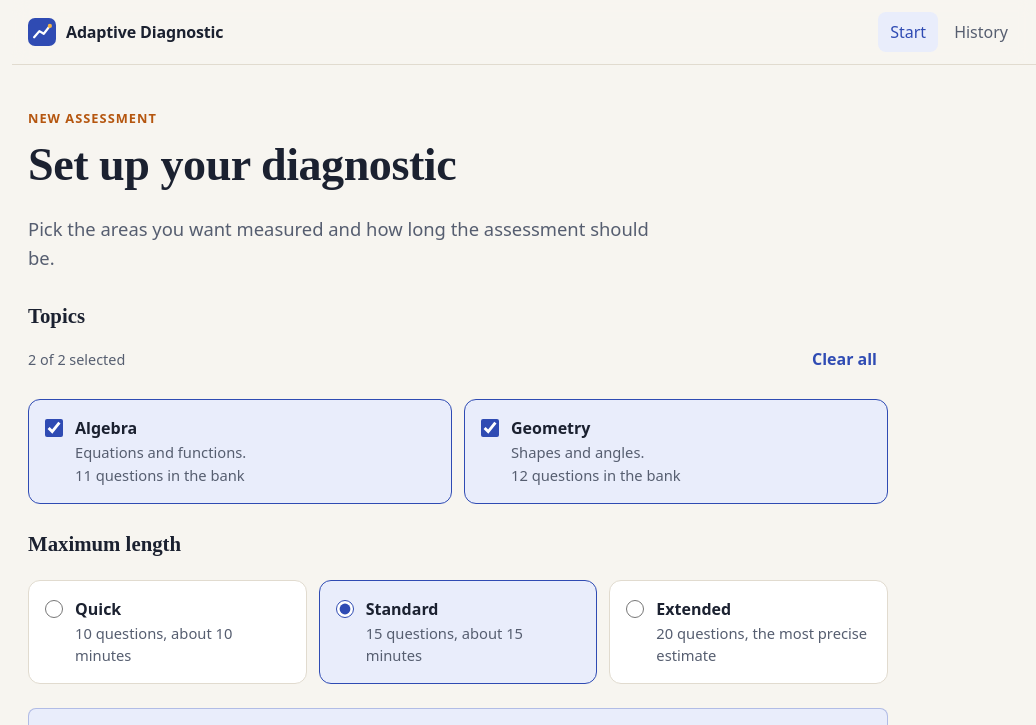
Test case: setup page › validates that at least one topic is selected
What coordinates should you click on to do the following:
click the button "Clear all"
I would click on:
 (844, 360)
Its box is left=801, top=336, right=888, bottom=383.
(page scrolled)
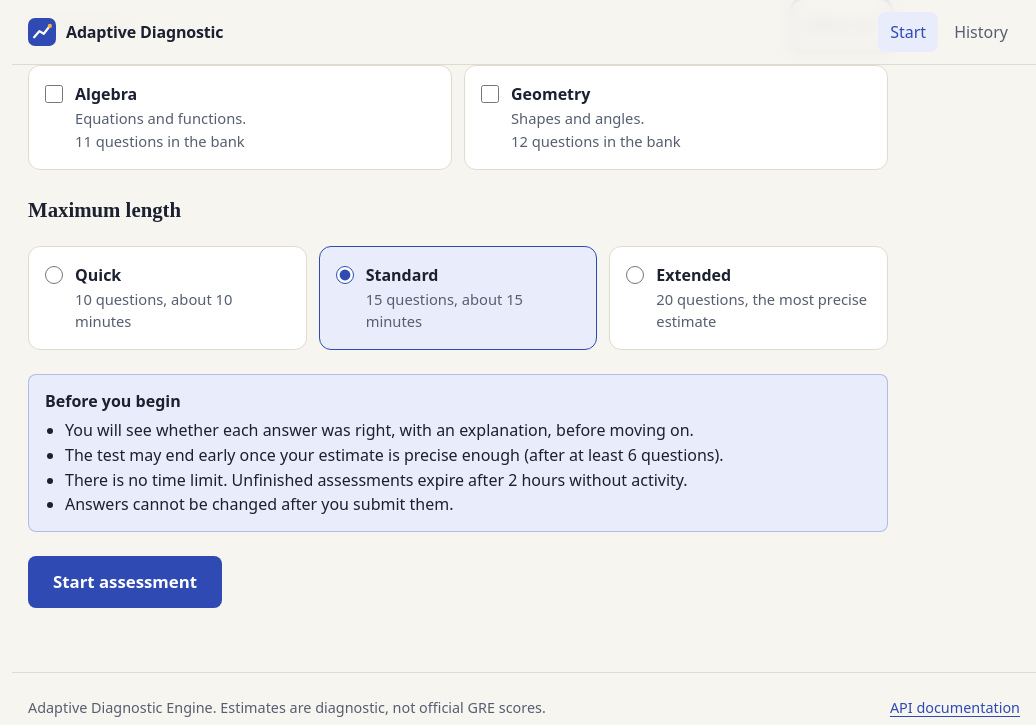
What coordinates should you click on to do the following:
click the button "Start assessment"
I would click on:
 (125, 582)
Its box is left=28, top=556, right=222, bottom=608.
(page scrolled)
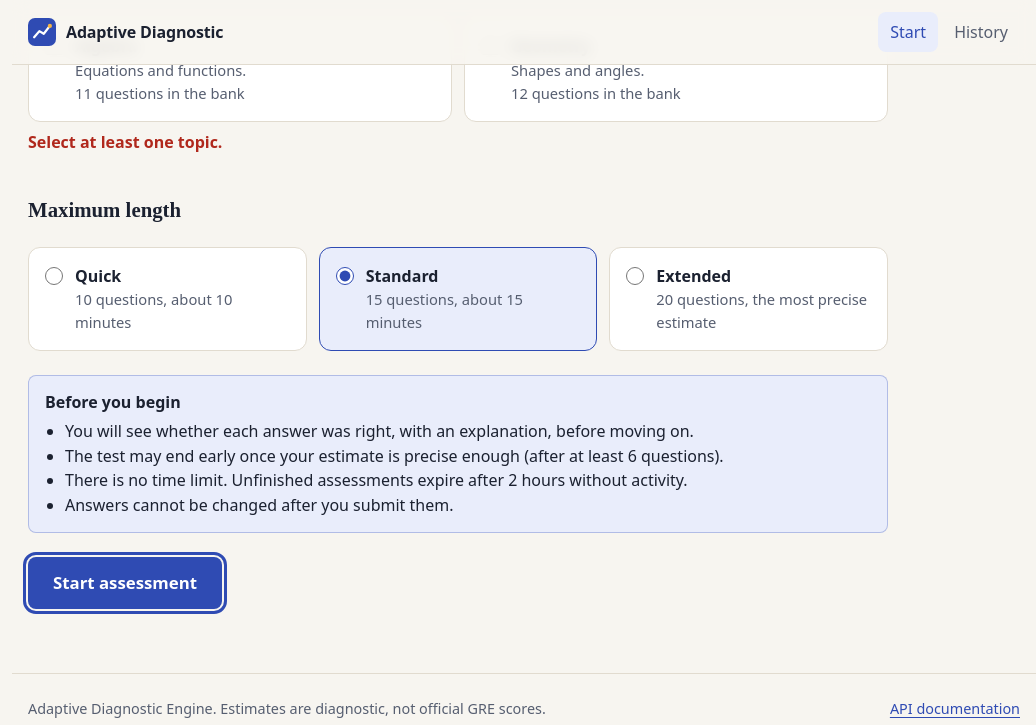
expect the message "Select at least one topic." is shown: met, box left=28, top=131, right=222, bottom=153
